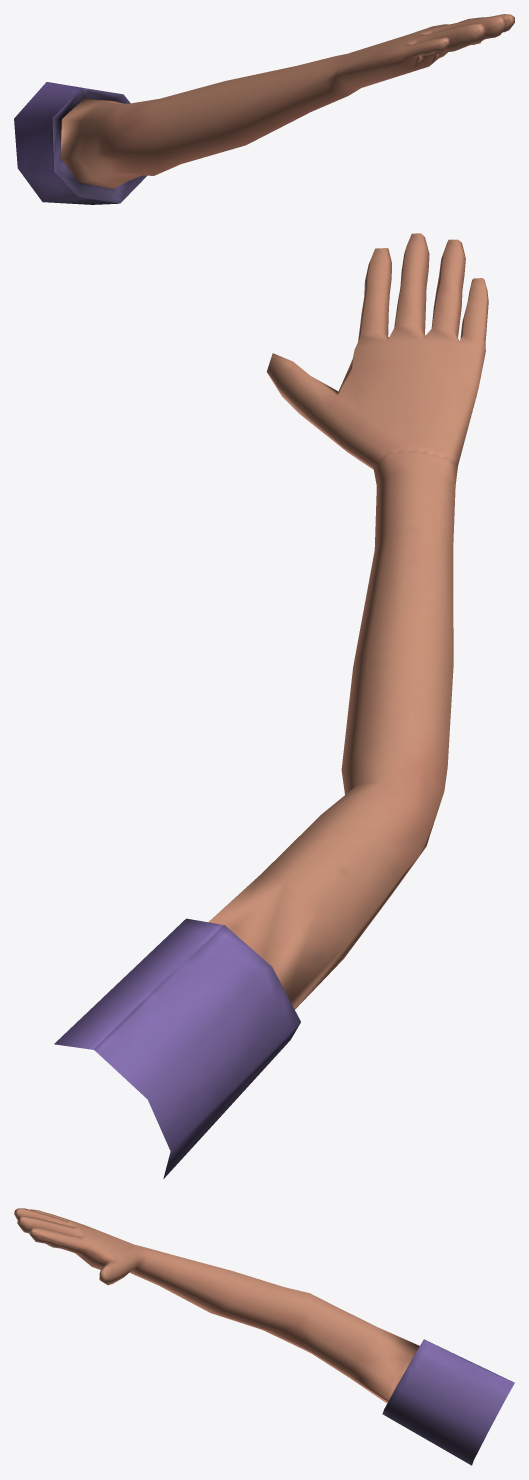
File: man_seated_waving_arm.glb
The picture shows the model from 3 angles, top to bottom: view 1: azimuth 30°, elevation 25°; view 2: azimuth 150°, elevation 25°; view 3: azimuth 270°, elevation 25°; orthographic projection. The views are drawn at different scales.
Visible parts, largest first — view 1: world; view 2: world; view 3: world.
Part boxes in pixels (<box>): world: <box>14,14,514,204</box>; world: <box>54,233,488,1178</box>; world: <box>14,1208,514,1465</box>.
Bounding box in the file's own units: 0.2221 × 0.3366 × 0.5374.
Materials: 1 (1 with a texture image).
